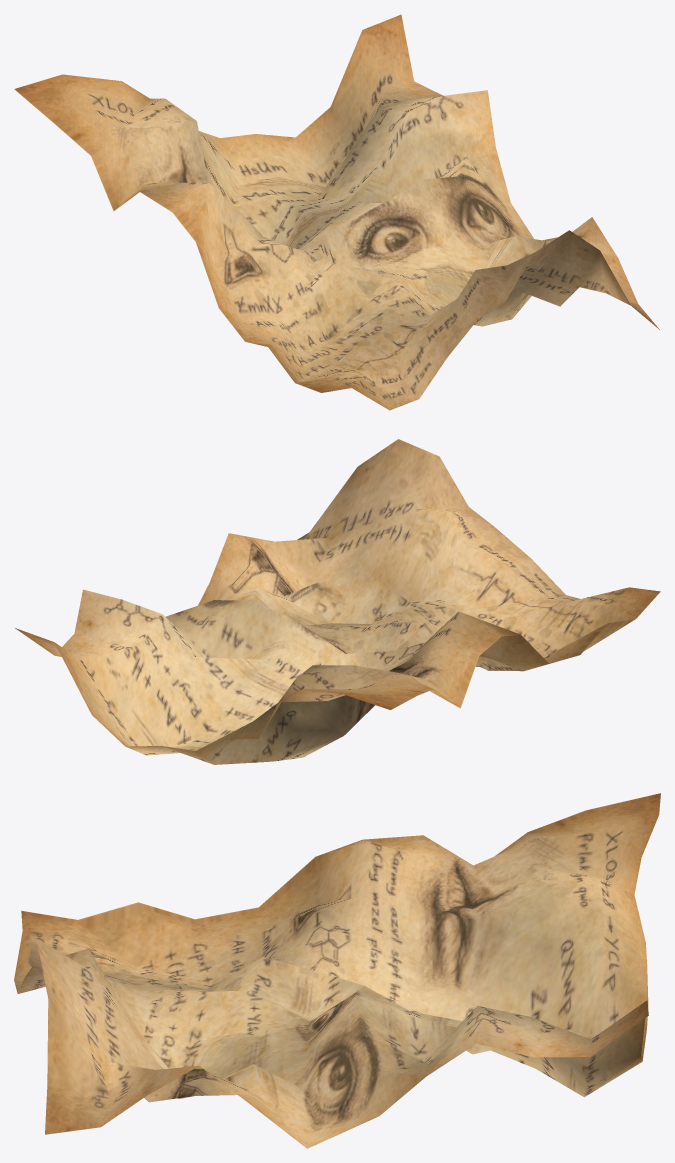
The model's file is SN_Research_Paper.006.fbx.
The picture shows the model from 3 angles, top to bottom: view 1: azimuth 30°, elevation 25°; view 2: azimuth 150°, elevation 25°; view 3: azimuth 270°, elevation 25°; orthographic projection. The views are drawn at different scales.
Visible parts, largest first — view 1: SN_Research_Paper.006; view 2: SN_Research_Paper.006; view 3: SN_Research_Paper.006.
Part boxes in pixels (x1,y1,x2,y2): SN_Research_Paper.006: [14, 14, 659, 410]; SN_Research_Paper.006: [15, 439, 660, 764]; SN_Research_Paper.006: [14, 793, 660, 1148].
Bounding box in the file's own units: 0.234 × 0.0889 × 0.303.
